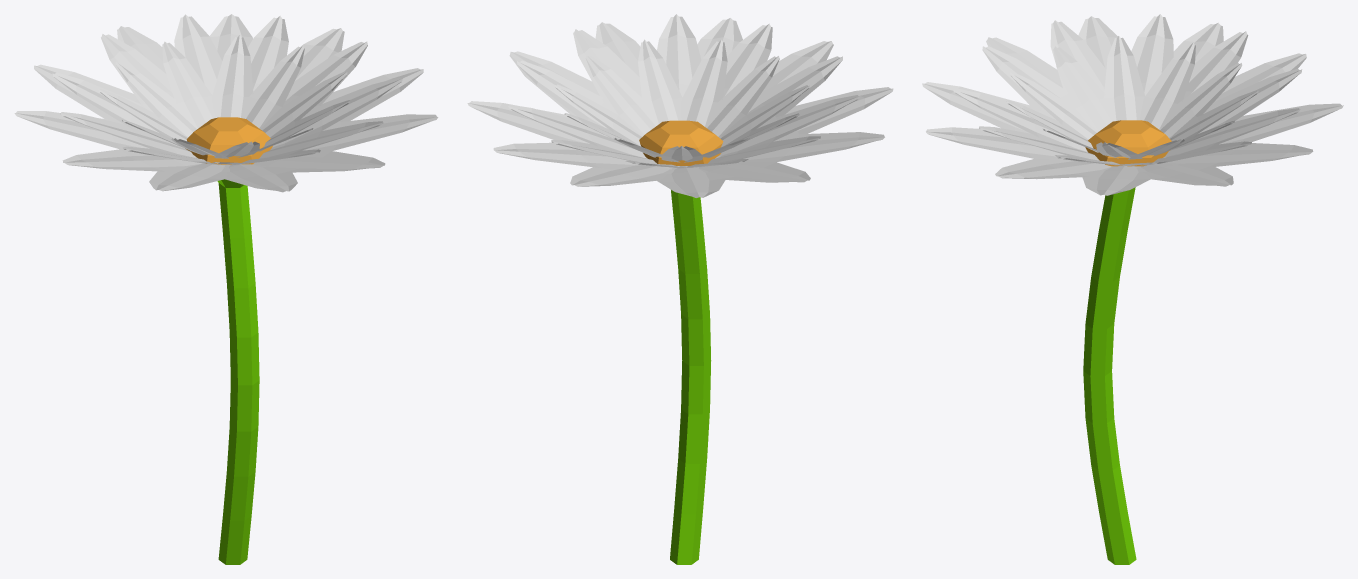
The model's file is Wildflower.fbx.
The picture shows the model from 3 angles, left to right: view 1: azimuth 30°, elevation 25°; view 2: azimuth 150°, elevation 25°; view 3: azimuth 270°, elevation 25°; orthographic projection.
Visible parts, largest first — view 1: Circle.019, Cylinder.039; view 2: Circle.019, Cylinder.039; view 3: Circle.019, Cylinder.039.
Part boxes in pixels (left/top/right/bottom): Circle.019: left=14, top=14, right=438, bottom=192; Cylinder.039: left=185, top=117, right=272, bottom=564; Circle.019: left=467, top=14, right=893, bottom=197; Cylinder.039: left=639, top=120, right=723, bottom=564; Circle.019: left=922, top=14, right=1343, bottom=195; Cylinder.039: left=1083, top=120, right=1171, bottom=564.
Size of the model in its own units: 1065 by 1308 by 1063.
